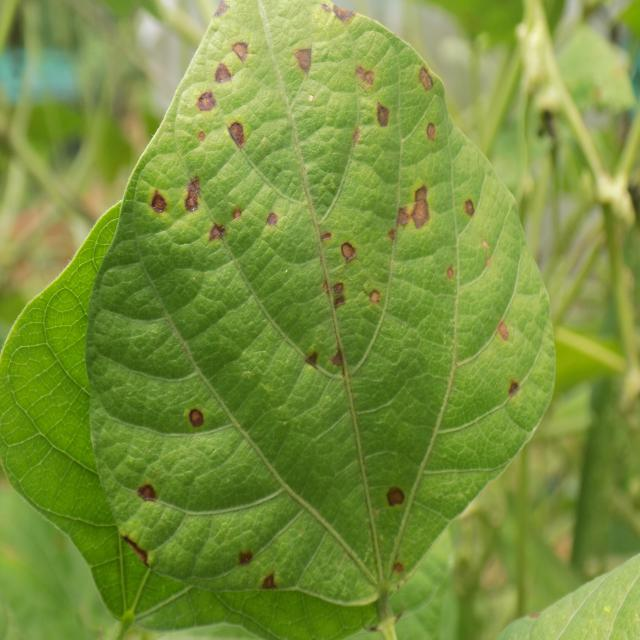Dolicos bean_cercospora leaf spot: (87, 0, 555, 614)
